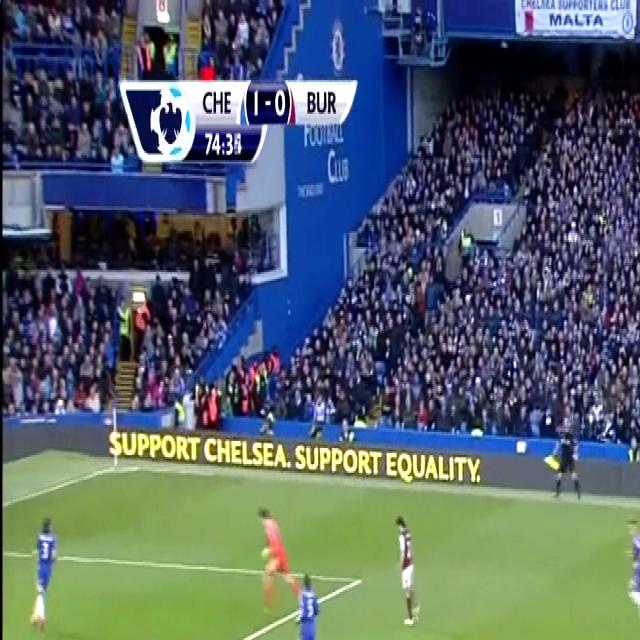goalkeeper: (256, 501, 298, 618)
referee: (544, 401, 588, 508)
soccer-player: (26, 503, 60, 634), (393, 506, 426, 635), (287, 569, 326, 640), (623, 503, 640, 637), (410, 634, 461, 640)
